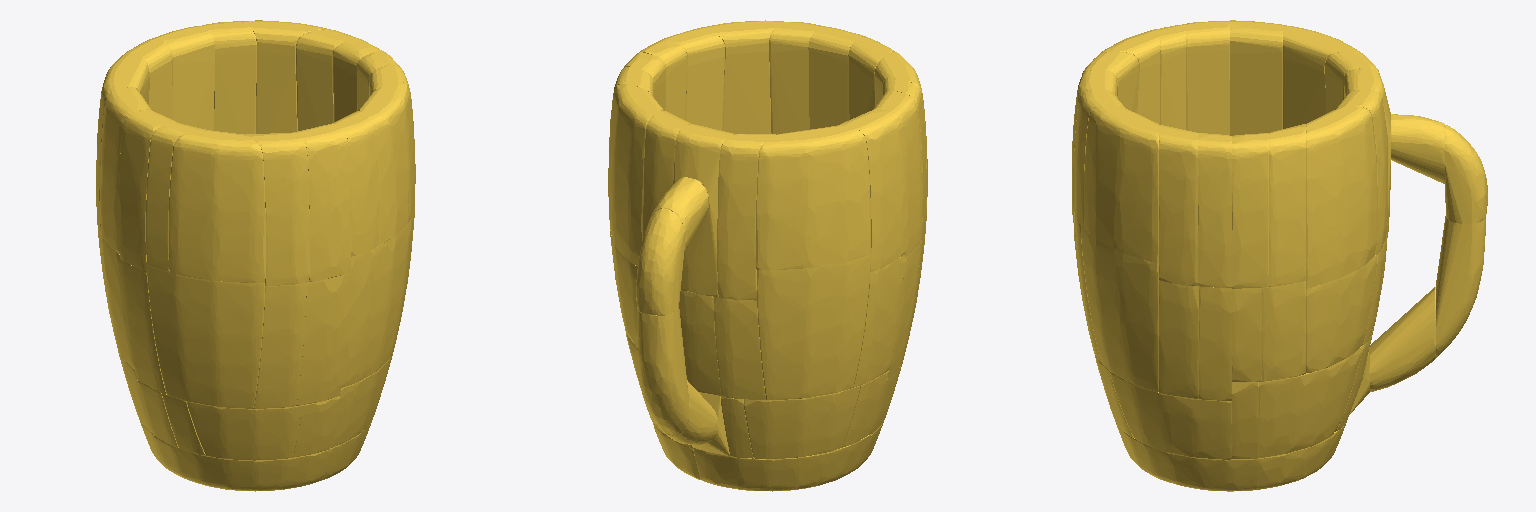
URDF robot description (763.urdf):
<?xml version="1.0" ?>
<robot name="763.urdf">
	<link name="baseLink">
		<inertial>
			<origin rpy="0 0 0" xyz="0 0 0"/>
				<mass value="0.1"/>
				<inertia ixx="6e-5" ixy="0" ixz="0" iyy="6e-5" iyz="0" izz="6e-5"/>
		</inertial>
		<visual>
			<origin rpy="0 0 0" xyz="0 0 0"/>
			<geometry>
				<mesh filename="10_decom_wt.obj" scale="1.00 1.00 1.07"/>
			</geometry>
			<material name="yellow">
				<color rgba="0.98 0.84 0.35 1"/>
			</material>
		</visual>
		<collision>
			<origin rpy="0 0 0" xyz="0 0 0"/>
			<geometry>
				<mesh filename="10_decom_wt.obj" scale="1.00 1.00 1.07"/>
			</geometry>
		</collision>
	</link>
</robot>

--- Facts derived from the render (not from the file) ---
3 views of the same robot in one strip: view 1: azimuth 30°, elevation 25°; view 2: azimuth 150°, elevation 25°; view 3: azimuth 270°, elevation 25° (orthographic).
Robot: 763.urdf — 1 links, 0 joints (none); root link baseLink; default pose: every joint at zero.
Visible links, largest first — view 1: baseLink; view 2: baseLink; view 3: baseLink.
Boxes of the visible links, x1,y1,x2,y2 form: baseLink: [96, 20, 415, 491]; baseLink: [608, 20, 927, 491]; baseLink: [1072, 20, 1487, 491].
Bounding box of the posed robot: 0.0978 × 0.1278 × 0.1253 m (x, y, z).
Meshes: 1 distinct files referenced, 1 mesh visuals loaded (1 OBJ).